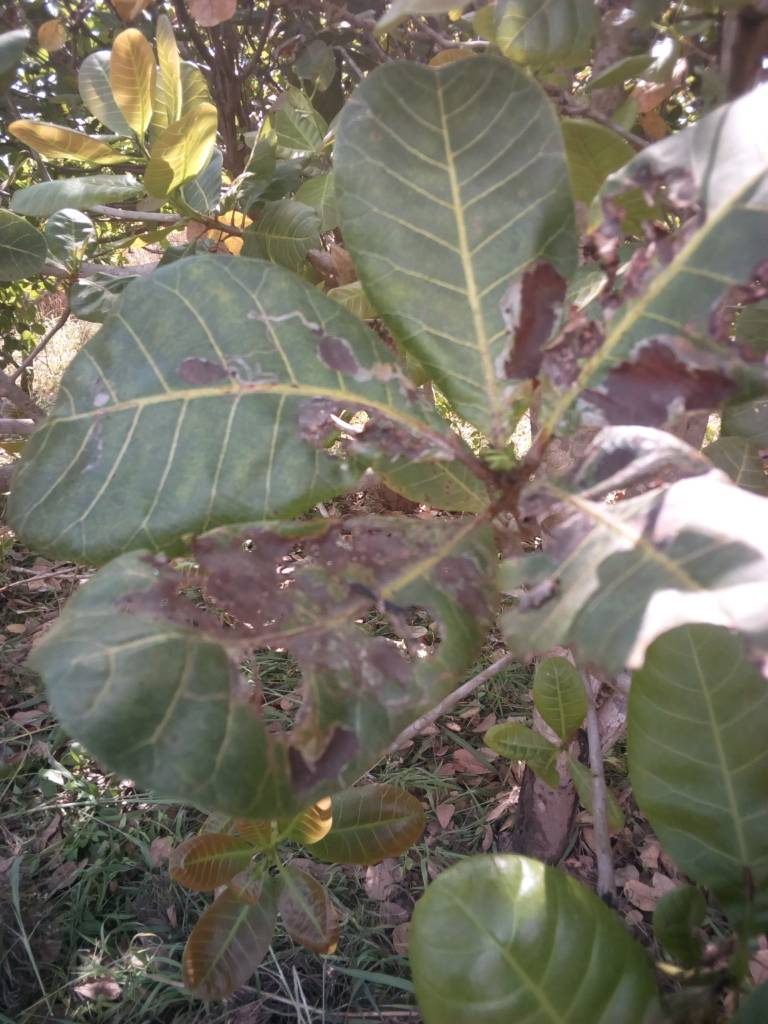Dysdercus wolkerii: (330, 38, 578, 452)
